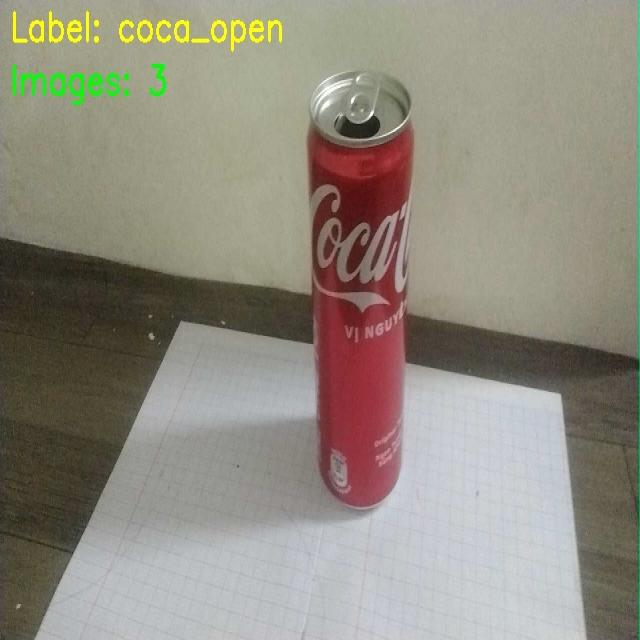Coca_open: (279, 66, 450, 522)
